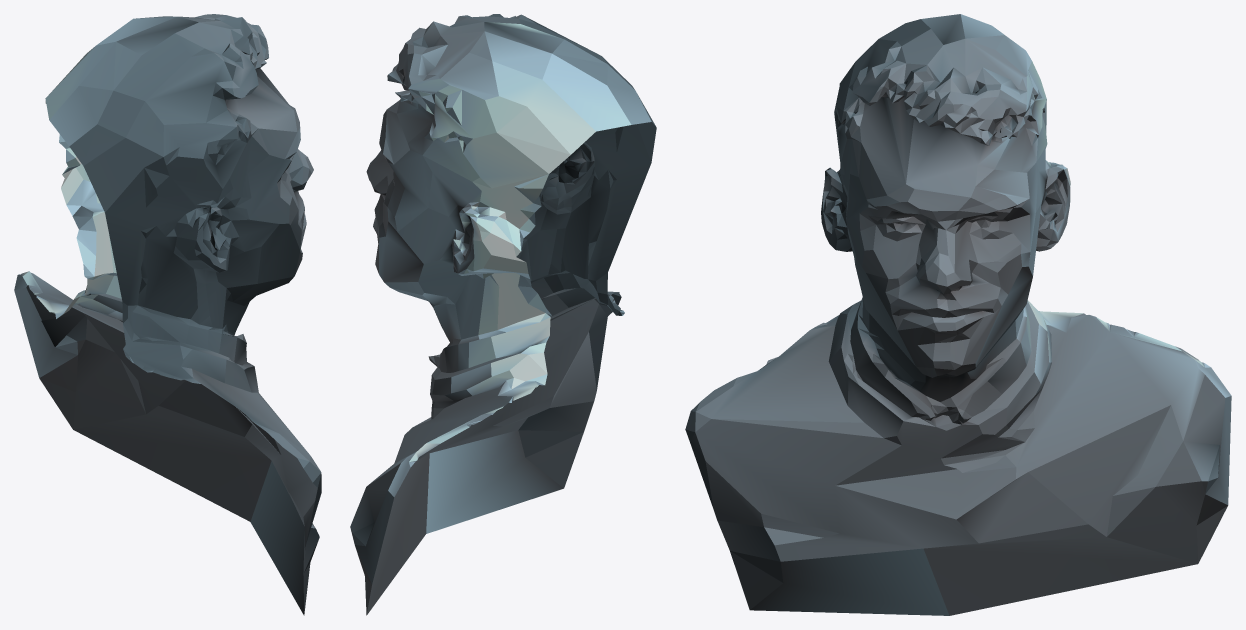
3 views of the same model, side by side, from view 1: azimuth 30°, elevation 25°; view 2: azimuth 150°, elevation 25°; view 3: azimuth 270°, elevation 25° (orthographic). The views are drawn at different scales.
Parts seen in each view (by area): view 1: me.001; view 2: me.001; view 3: me.001.
Part boxes in pixels (<box>): me.001: <box>14,14,321,615</box>; me.001: <box>350,14,656,615</box>; me.001: <box>685,14,1231,615</box>.
Size of the model in its own units: 0.2454 by 0.4763 by 0.4216.
